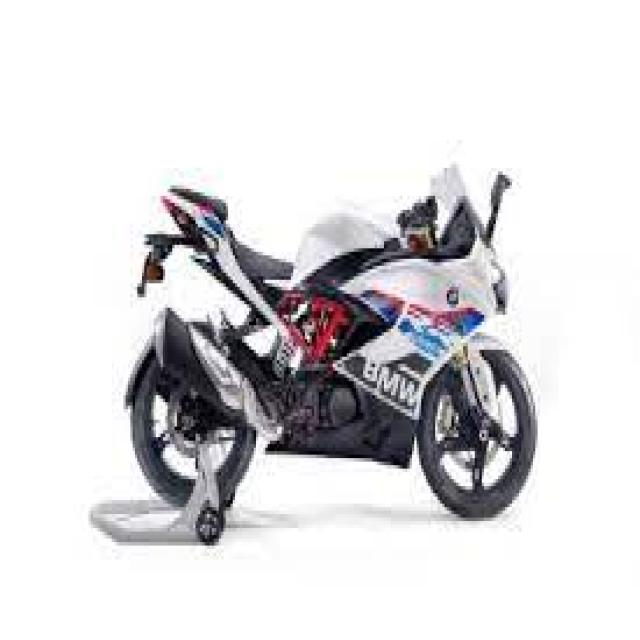MOTORCYCLE: (123, 190, 535, 524)
